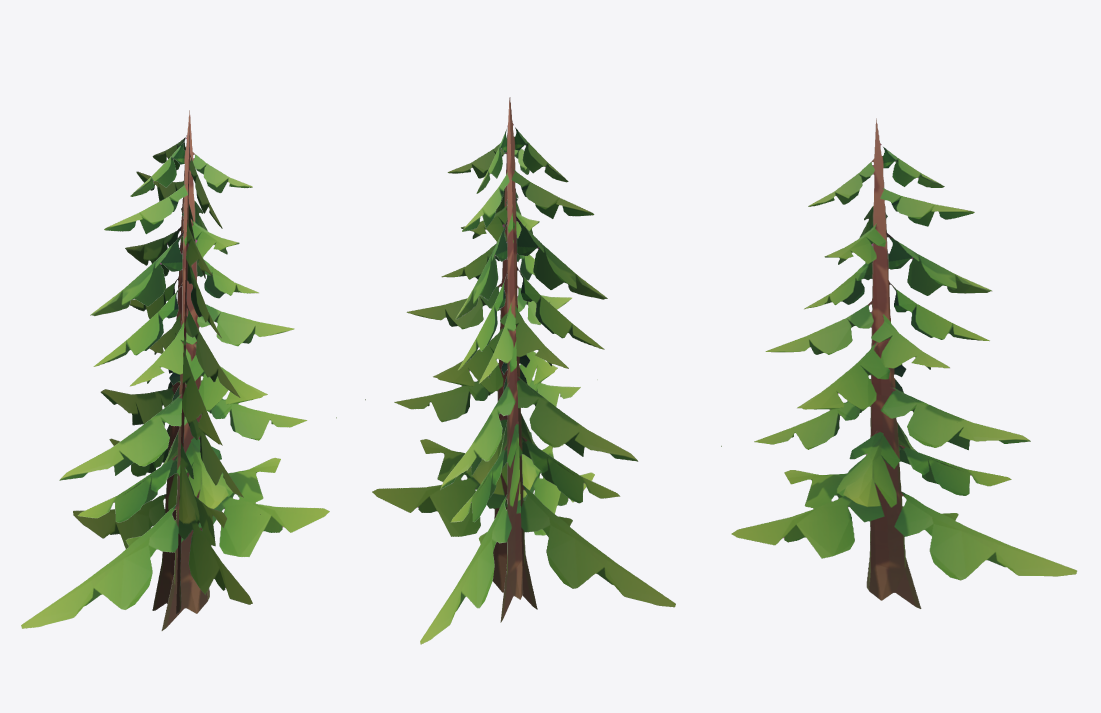
Rendered from Conifer_Proxy.fbx.
3 views of the same model, side by side, from view 1: azimuth 30°, elevation 25°; view 2: azimuth 150°, elevation 25°; view 3: azimuth 270°, elevation 25° (orthographic). The views are drawn at different scales.
Parts seen in each view (by area): view 1: pPlane124; view 2: pPlane124; view 3: pPlane124.
Boxes of the visible parts, bbox=[...] form: pPlane124: bbox=[21, 110, 336, 630]; pPlane124: bbox=[365, 97, 675, 644]; pPlane124: bbox=[721, 118, 1077, 608].
Size of the model in its own units: 9.27 by 15.1 by 9.64.
